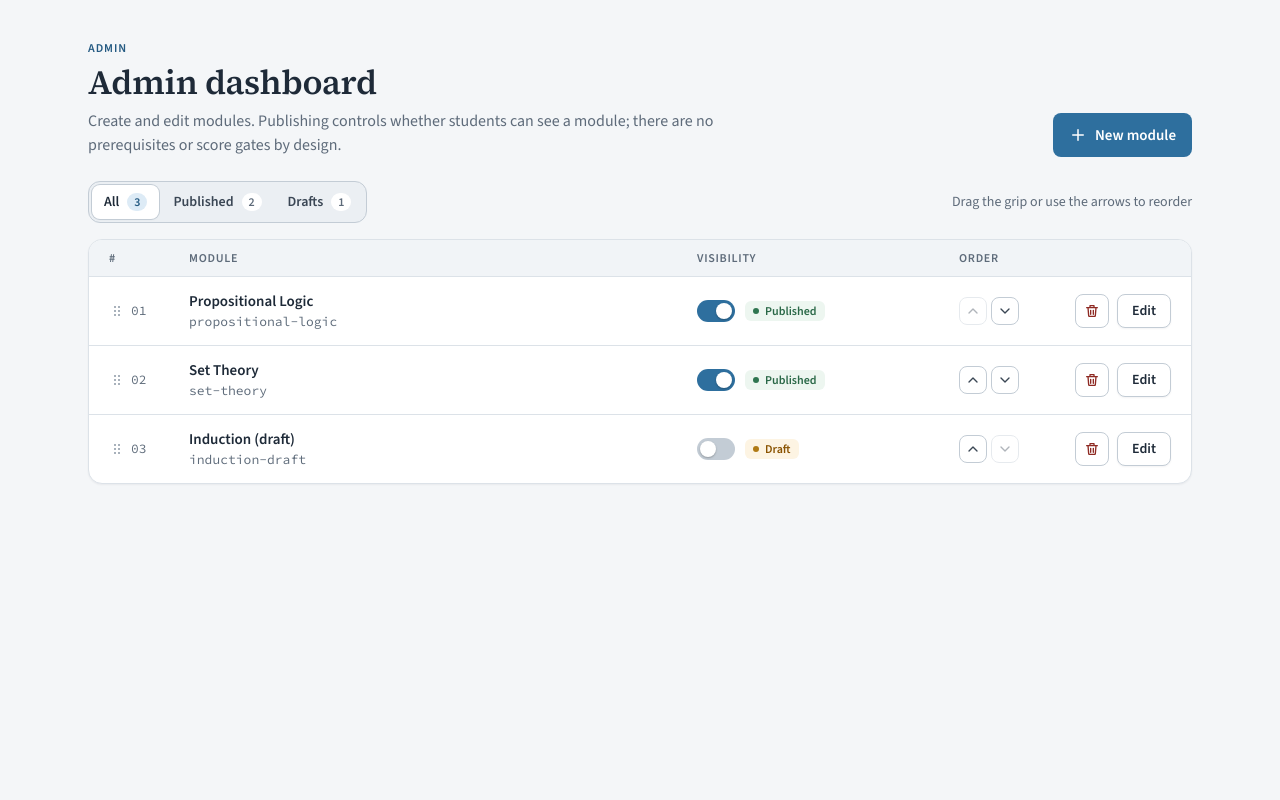
AdminDashboard › creates a new module as a draft, filling the slug from the title
Later steps or results of the test are not shown.
Click the button "New module": (1122, 135) [1053,113,1192,157]
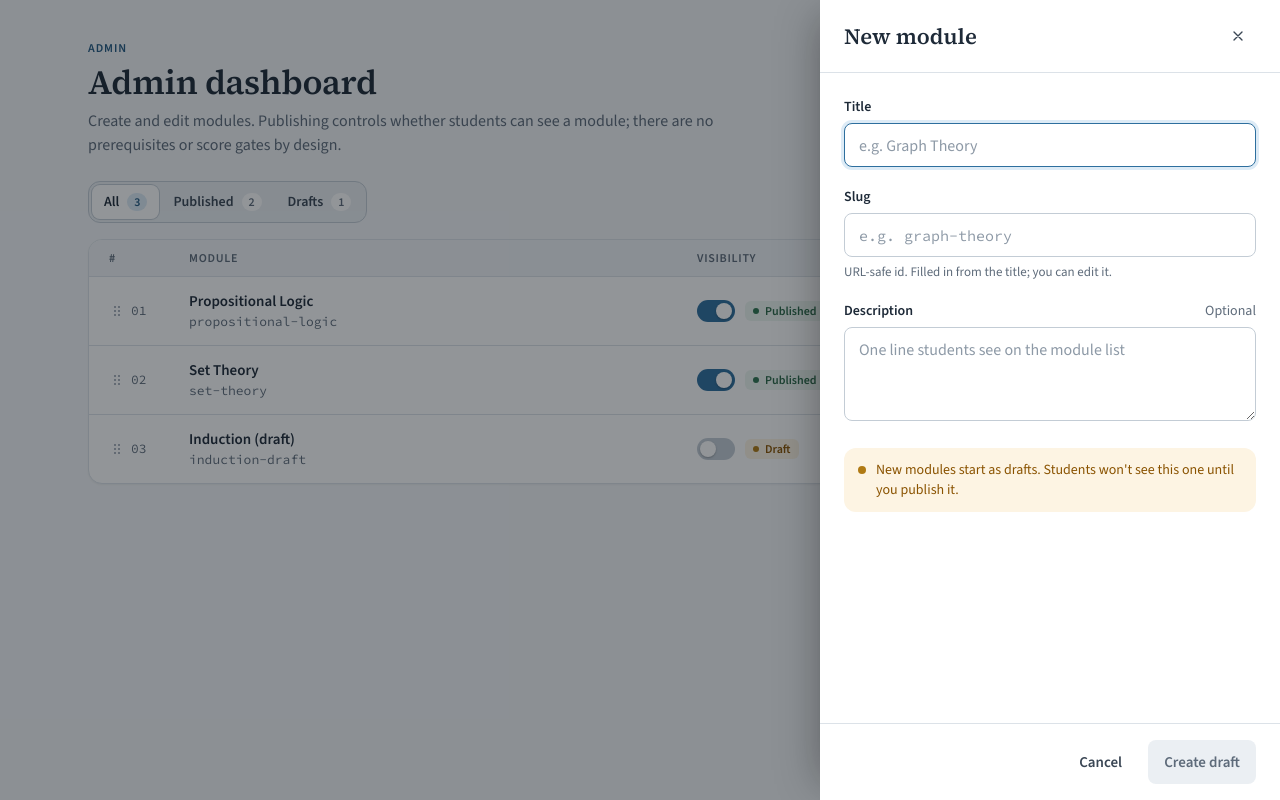
Check: the button "Create draft" is disabled, box [1148,740,1256,784]
In the field labelled "Title": (1050, 145) [844,123,1256,167], type "Graph Theory"
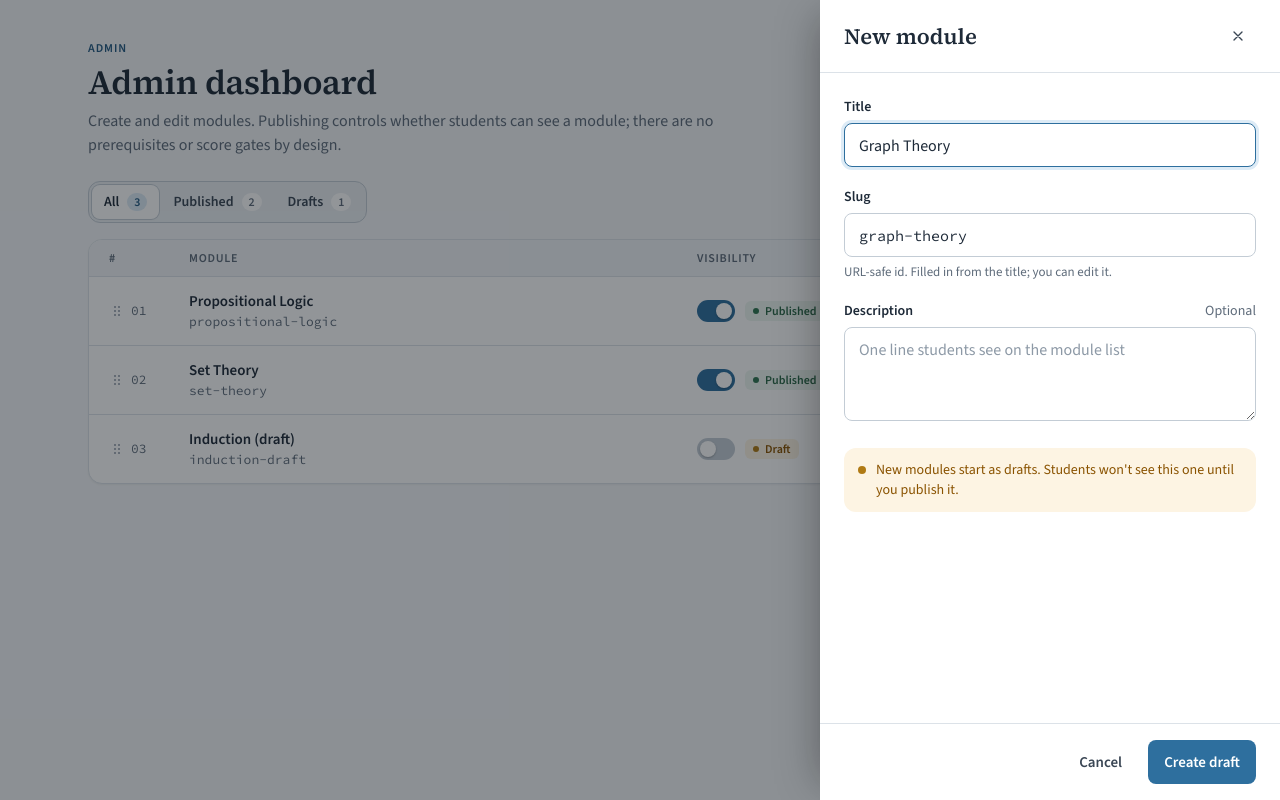
Check: the field labelled "Slug" holds "graph-theory", box [844,213,1256,257]
